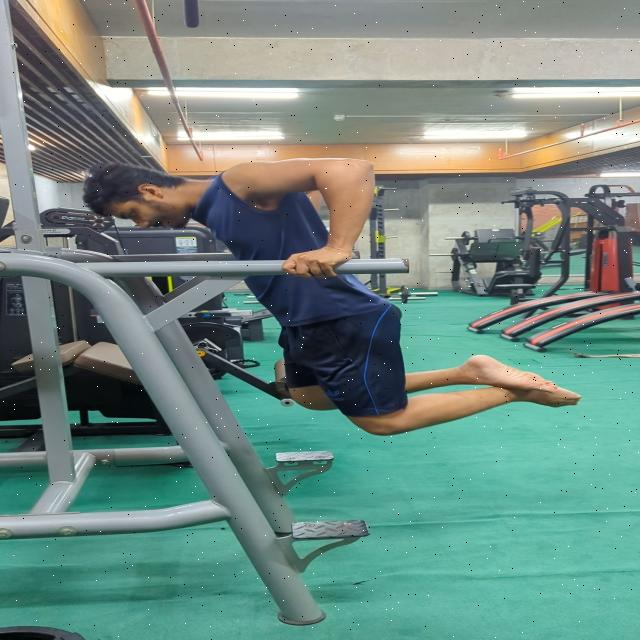Normal_Dips: (86, 155, 587, 443)
